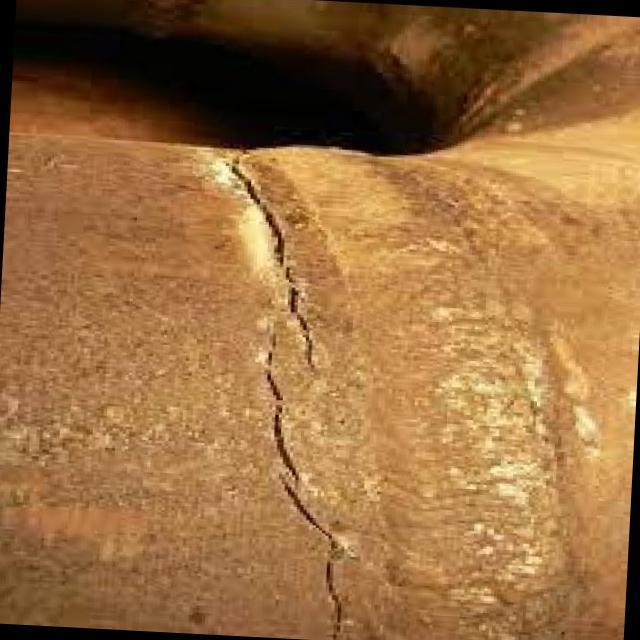defect: (257, 319, 354, 640), (223, 148, 324, 391)
